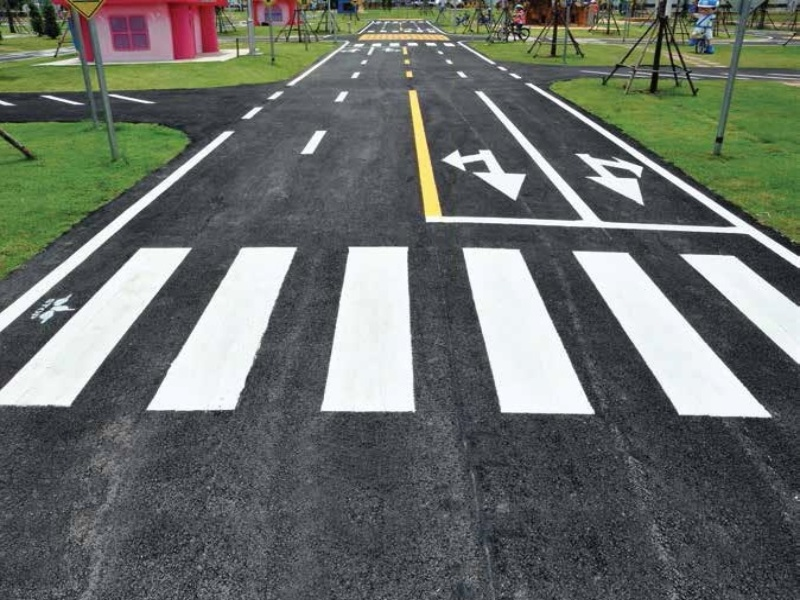zebra cross: (4, 247, 800, 417)
